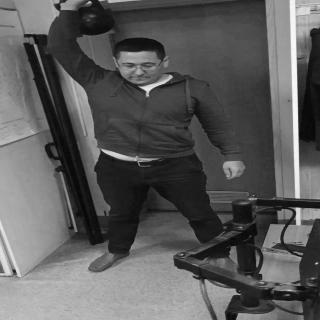kettlebell: (56, 1, 118, 39)
